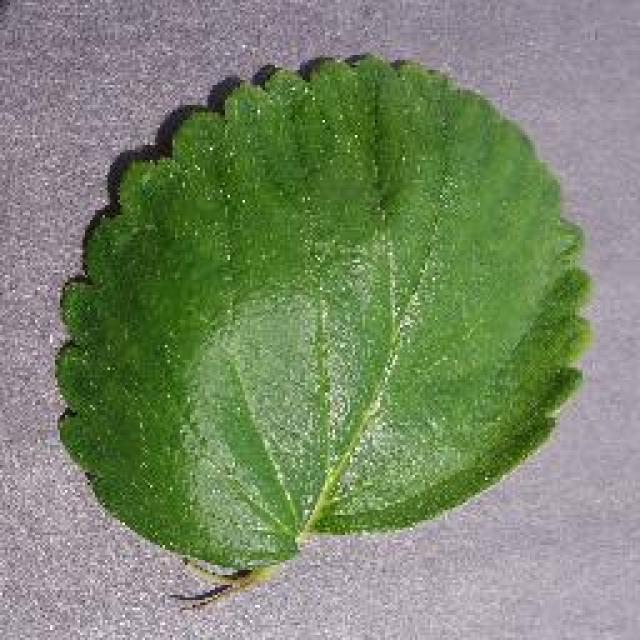Strawberry___healthy: (42, 35, 602, 620)
